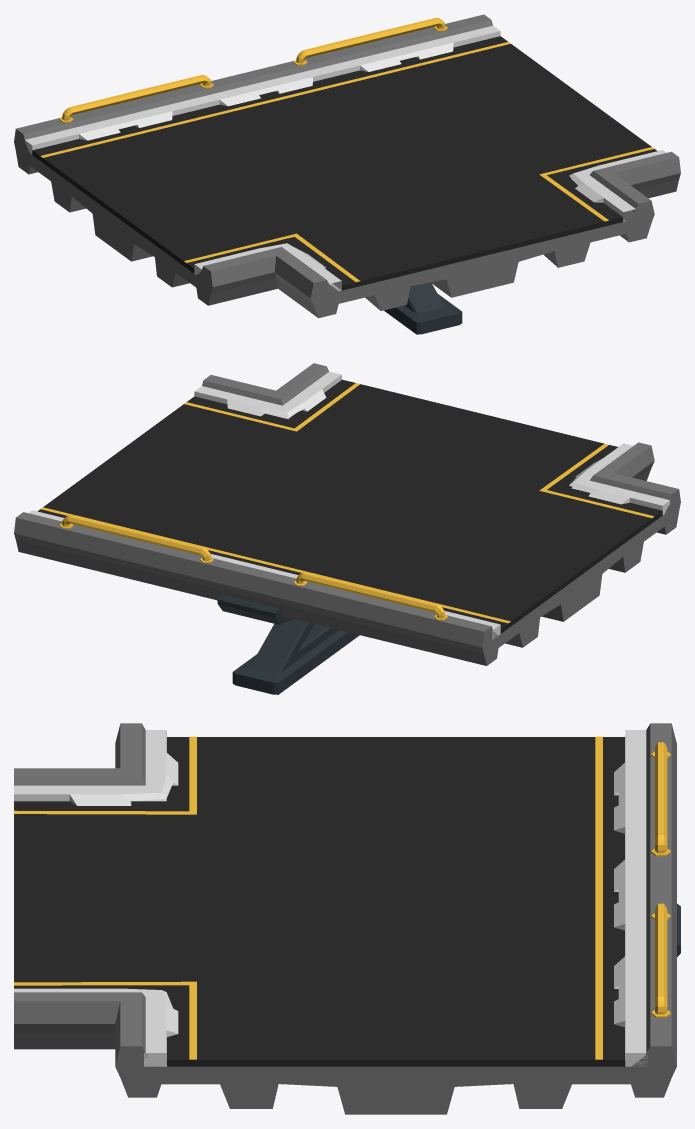
File: T_road.glb
3 views of the same model, one above another, from view 1: azimuth 30°, elevation 25°; view 2: azimuth 150°, elevation 25°; view 3: azimuth 270°, elevation 25° (orthographic). The views are drawn at different scales.
Visible parts, largest first — view 1: TZI, 立方体.016, 立方体.017, 柱体.004, 立方体.014, 立方体.015, 平面.011, 平面.009; view 2: TZI, 立方体.016, 立方体.015, 立方体.014, 柱体.004, 平面.009, 平面.011, 立方体.017; view 3: TZI, 立方体.016, 立方体.017, 立方体.014, 柱体.004, 平面.009, 平面.011.
Boxes of the visible parts, <box> form: TZI: <box>32,36,657,290</box>; 立方体.016: <box>14,14,680,318</box>; 立方体.017: <box>25,25,500,154</box>; 柱体.004: <box>59,17,447,122</box>; 立方体.014: <box>194,150,666,290</box>; 立方体.015: <box>384,282,462,334</box>; 平面.011: <box>40,41,510,157</box>; 平面.009: <box>184,147,654,282</box>; TZI: <box>37,379,662,633</box>; 立方体.016: <box>14,363,680,665</box>; 立方体.015: <box>217,594,359,694</box>; 立方体.014: <box>194,371,670,514</box>; 柱体.004: <box>59,515,447,620</box>; 平面.009: <box>184,383,654,518</box>; 平面.011: <box>40,507,510,623</box>; 立方体.017: <box>28,510,500,639</box>; TZI: <box>14,737,625,1066</box>; 立方体.016: <box>14,723,676,1114</box>; 立方体.017: <box>614,730,647,1066</box>; 立方体.014: <box>14,730,178,1066</box>; 柱体.004: <box>651,742,670,1017</box>; 平面.009: <box>14,736,196,1059</box>; 平面.011: <box>595,736,602,1059</box>.
Bounding box in the file's own units: 10 × 2.65 × 8.73.
